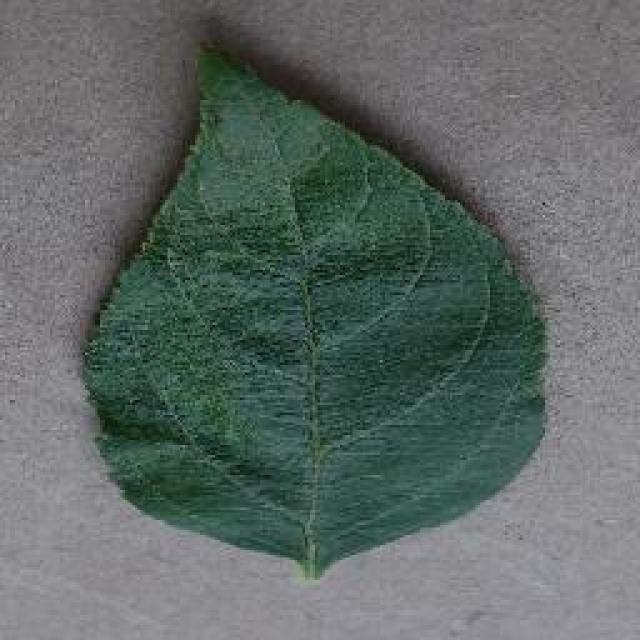apple scab disease: (78, 38, 550, 582)
